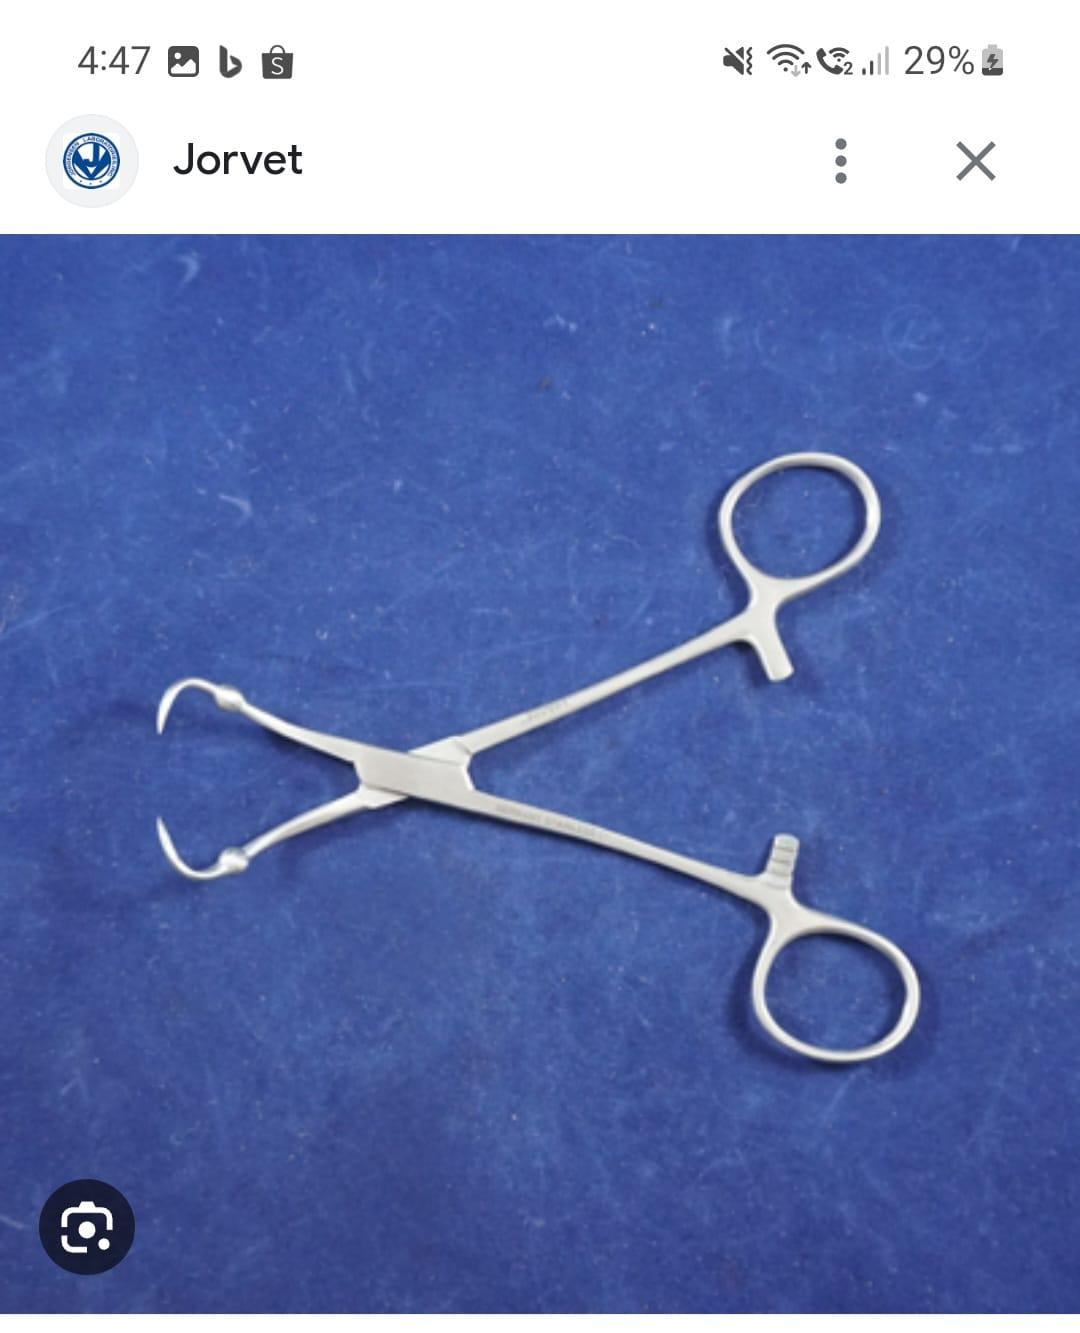Backhaus: (132, 446, 946, 1086)
